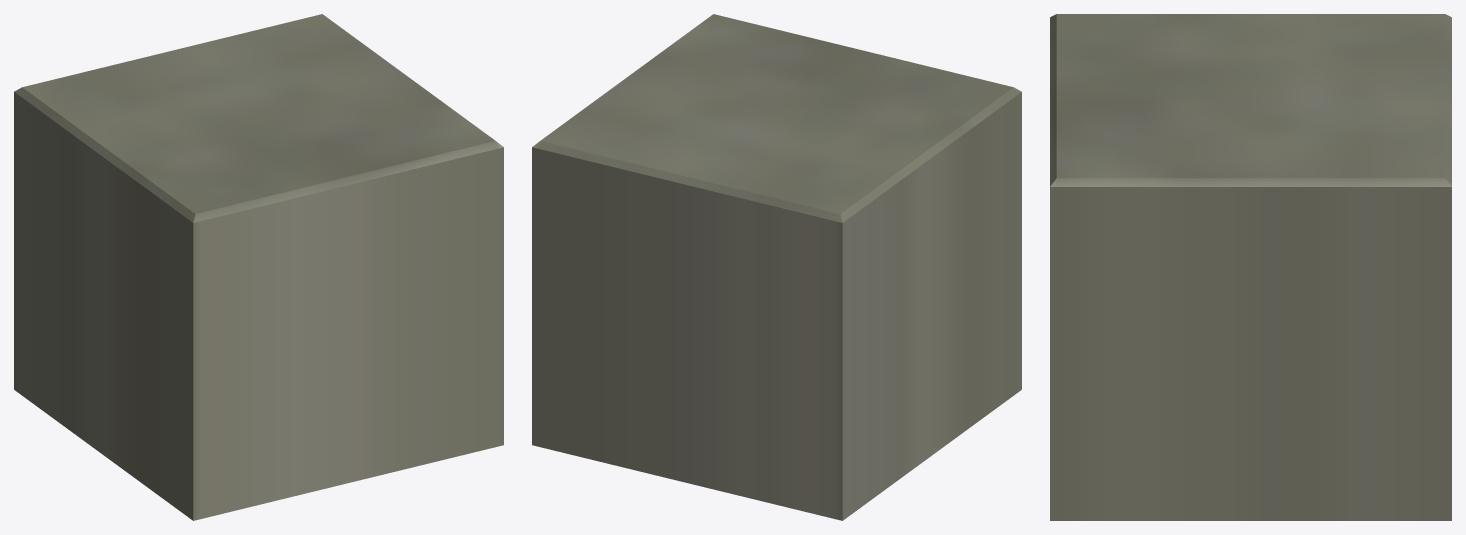
Rendered from f03-s-stone-corner-north-west.glb.
3 views of the same model, side by side, from view 1: azimuth 30°, elevation 25°; view 2: azimuth 150°, elevation 25°; view 3: azimuth 270°, elevation 25° (orthographic). The views are drawn at different scales.
Parts seen in each view (by area): view 1: f03-s-stone-corner-north-west; view 2: f03-s-stone-corner-north-west; view 3: f03-s-stone-corner-north-west.
Part boxes in pixels (left/top/right/bottom): f03-s-stone-corner-north-west: left=14, top=14, right=503, bottom=520; f03-s-stone-corner-north-west: left=532, top=14, right=1021, bottom=520; f03-s-stone-corner-north-west: left=1050, top=14, right=1451, bottom=520.
Bounding box in the file's own units: 0.06 × 0.056 × 0.06.
1 material, 1 textured.
